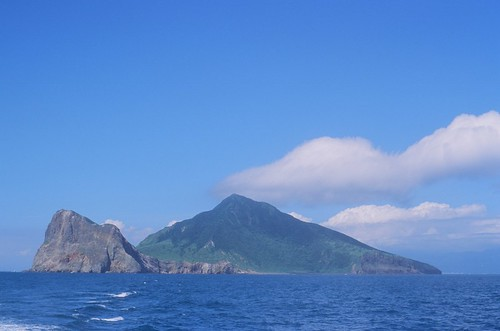turtleIslandLeft: (31, 193, 444, 279)
